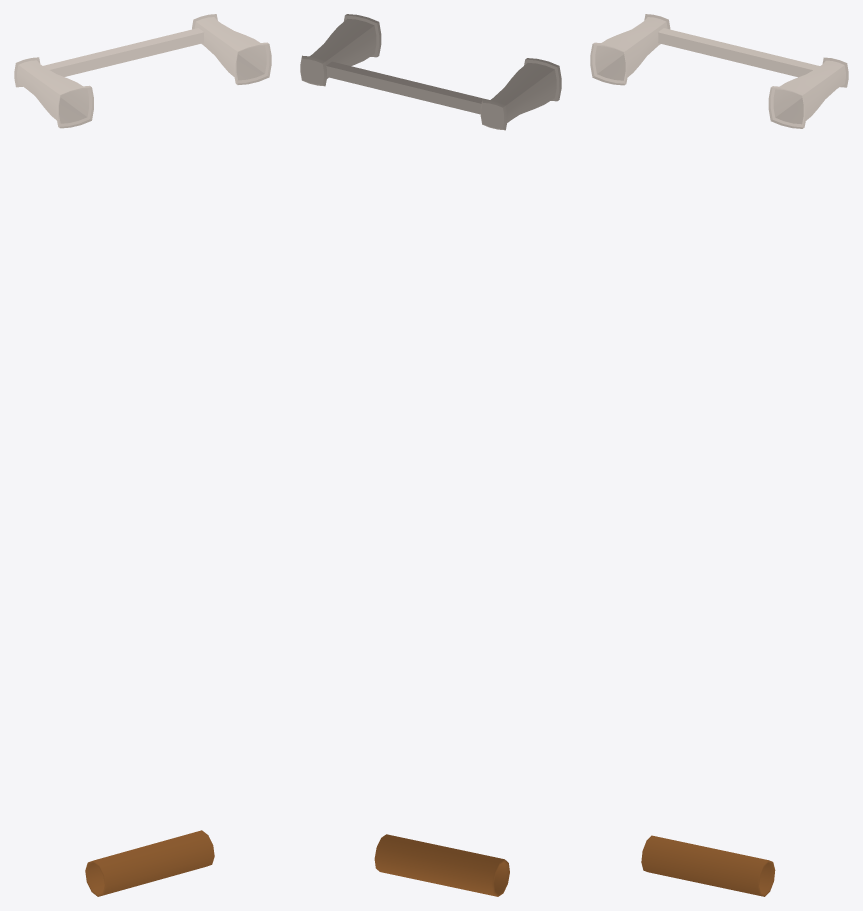
Rendered from ToiletPaperHanger_60e99a0a.obj.
3 renders of one model, left to right at view 1: azimuth 30°, elevation 25°; view 2: azimuth 150°, elevation 25°; view 3: azimuth 330°, elevation 25°, orthographic.
Parts seen in each view (by area): view 1: toilet_paper_hanger_23_183f1ec1, Roll_7a76e45f; view 2: toilet_paper_hanger_23_183f1ec1, Roll_7a76e45f; view 3: toilet_paper_hanger_23_183f1ec1, Roll_7a76e45f.
Part boxes in pixels (x1=…): toilet_paper_hanger_23_183f1ec1: x1=14, y1=14, x2=271, y2=128; Roll_7a76e45f: x1=85, y1=830, x2=214, y2=896; toilet_paper_hanger_23_183f1ec1: x1=300, y1=14, x2=561, y2=130; Roll_7a76e45f: x1=374, y1=834, x2=509, y2=896; toilet_paper_hanger_23_183f1ec1: x1=590, y1=14, x2=848, y2=128; Roll_7a76e45f: x1=641, y1=835, x2=775, y2=896.
Size of the model in its own units: 0.2284 by 0.8407 by 0.0924.
